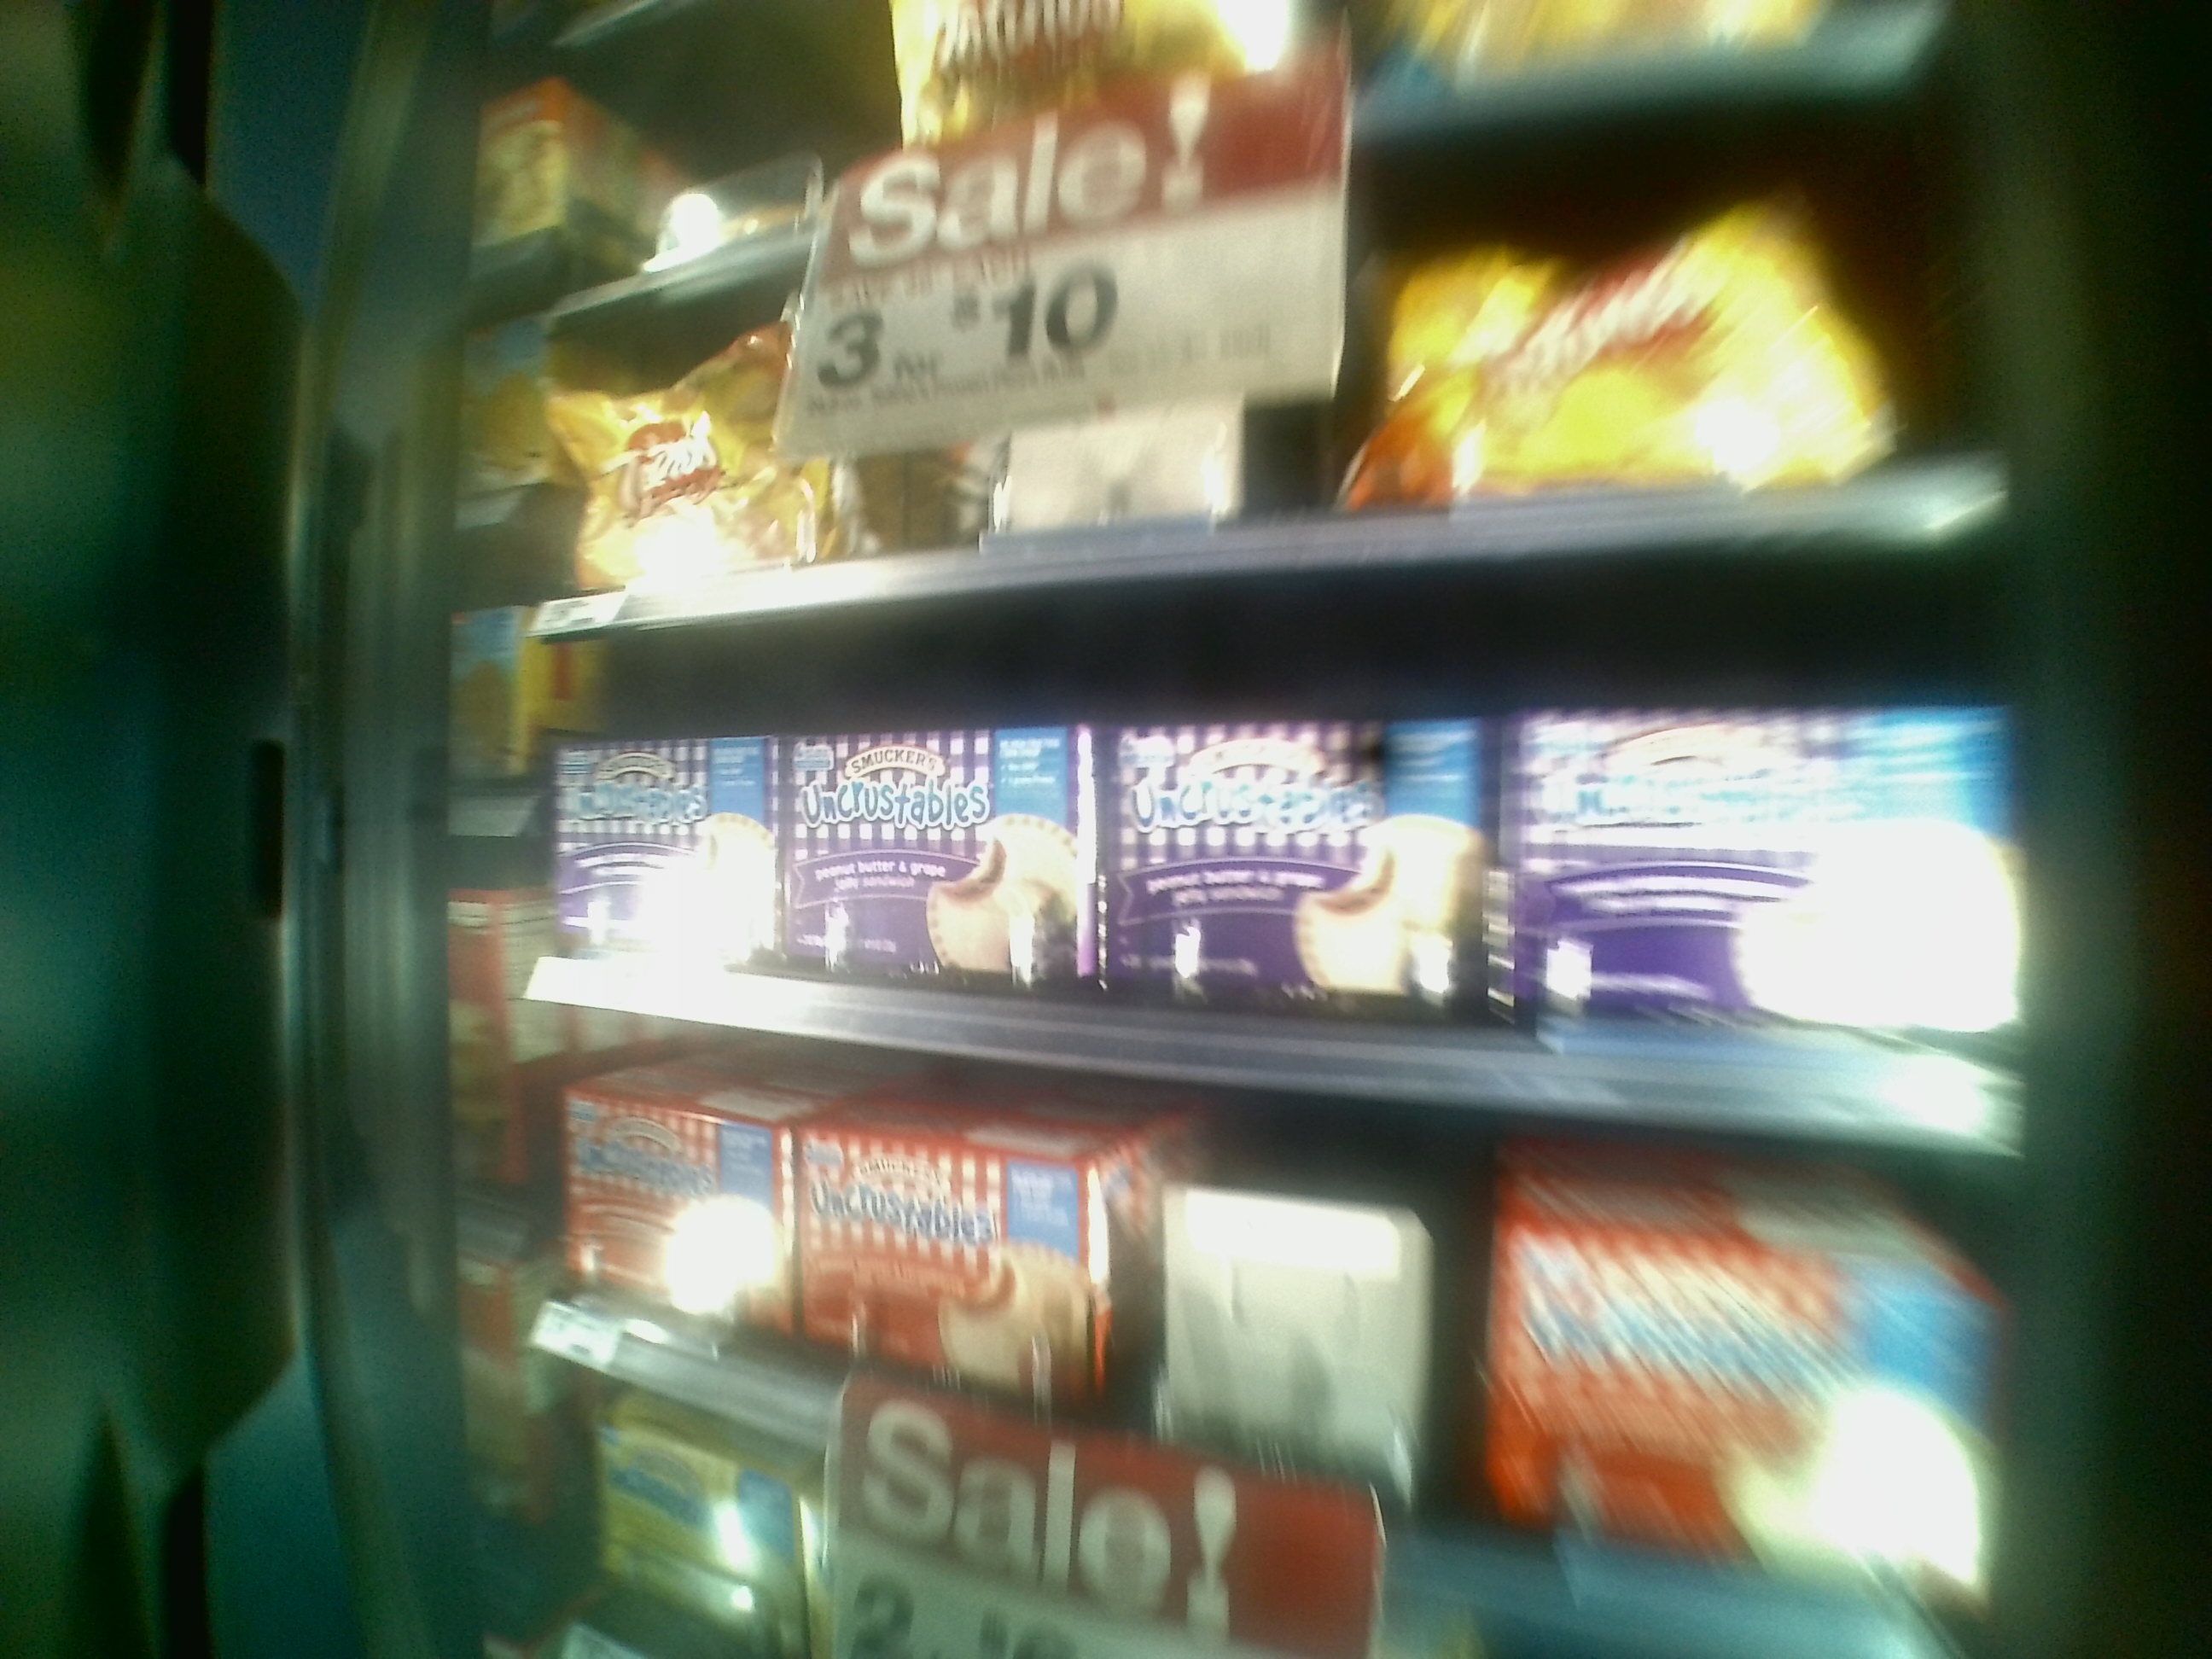shelf: (550, 594, 1998, 1117), (559, 1051, 1966, 1588), (568, 249, 1954, 589)
